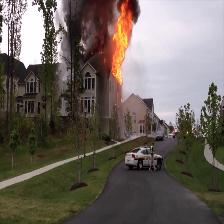fire: (111, 22, 128, 72)
smoke: (70, 3, 108, 51)
